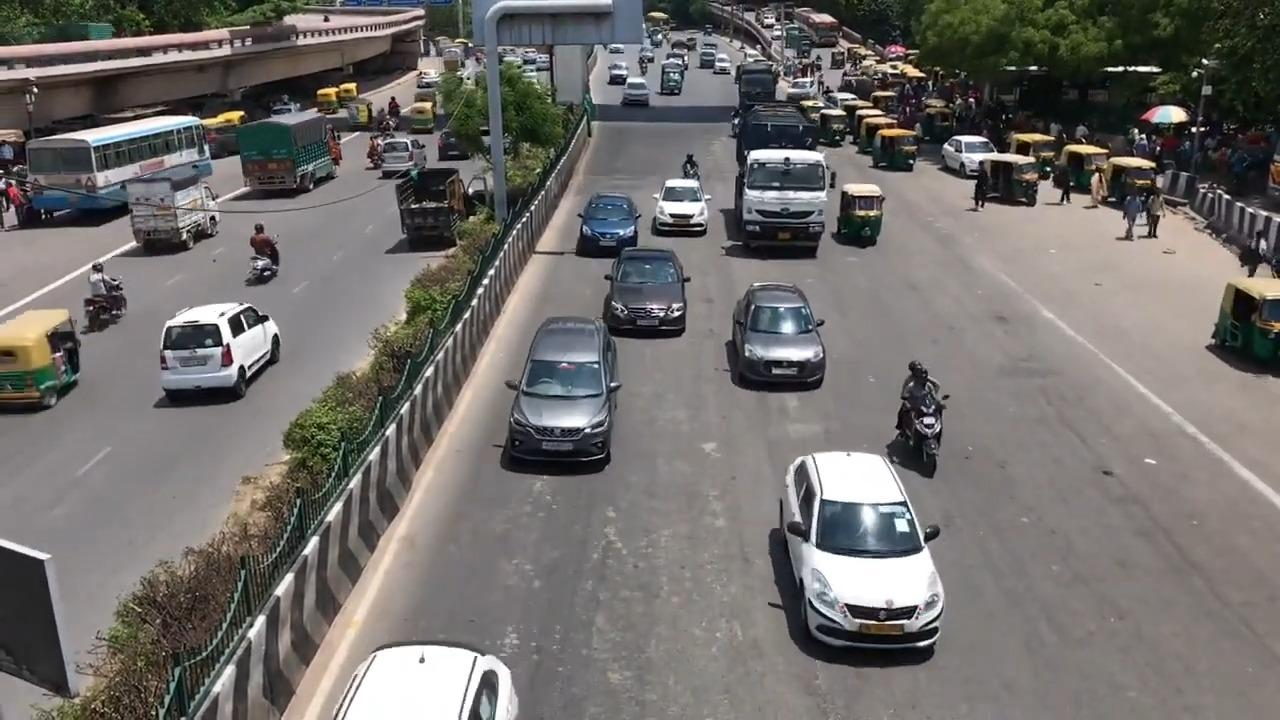Auto: (0, 307, 81, 411), (1210, 275, 1279, 364), (836, 182, 885, 245)
Bike: (899, 357, 953, 472), (83, 261, 127, 324), (245, 219, 284, 284)
Bus: (24, 113, 212, 216)
Truck: (731, 100, 832, 263), (236, 108, 338, 194), (125, 163, 220, 251), (394, 166, 469, 245)
